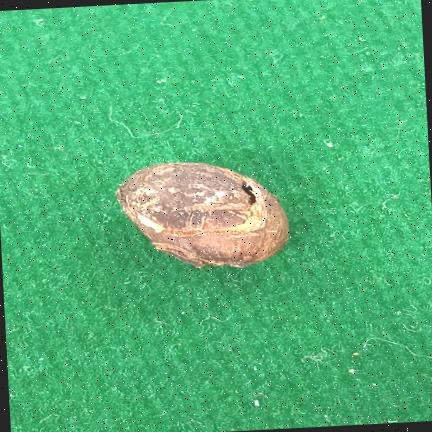full-black: (117, 162, 289, 268)
